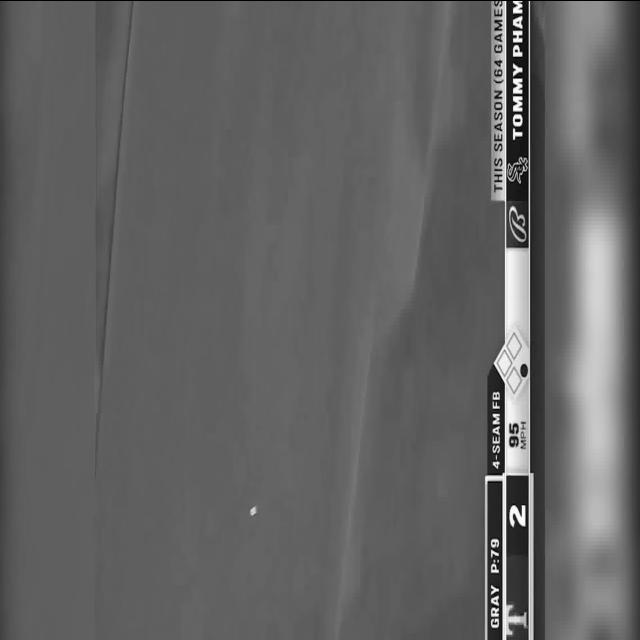baseball: (250, 505, 258, 517)
